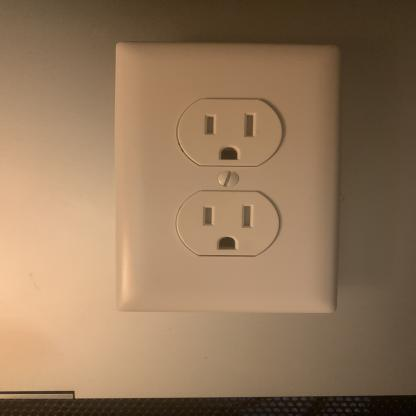OUTLET: (114, 42, 342, 316)
